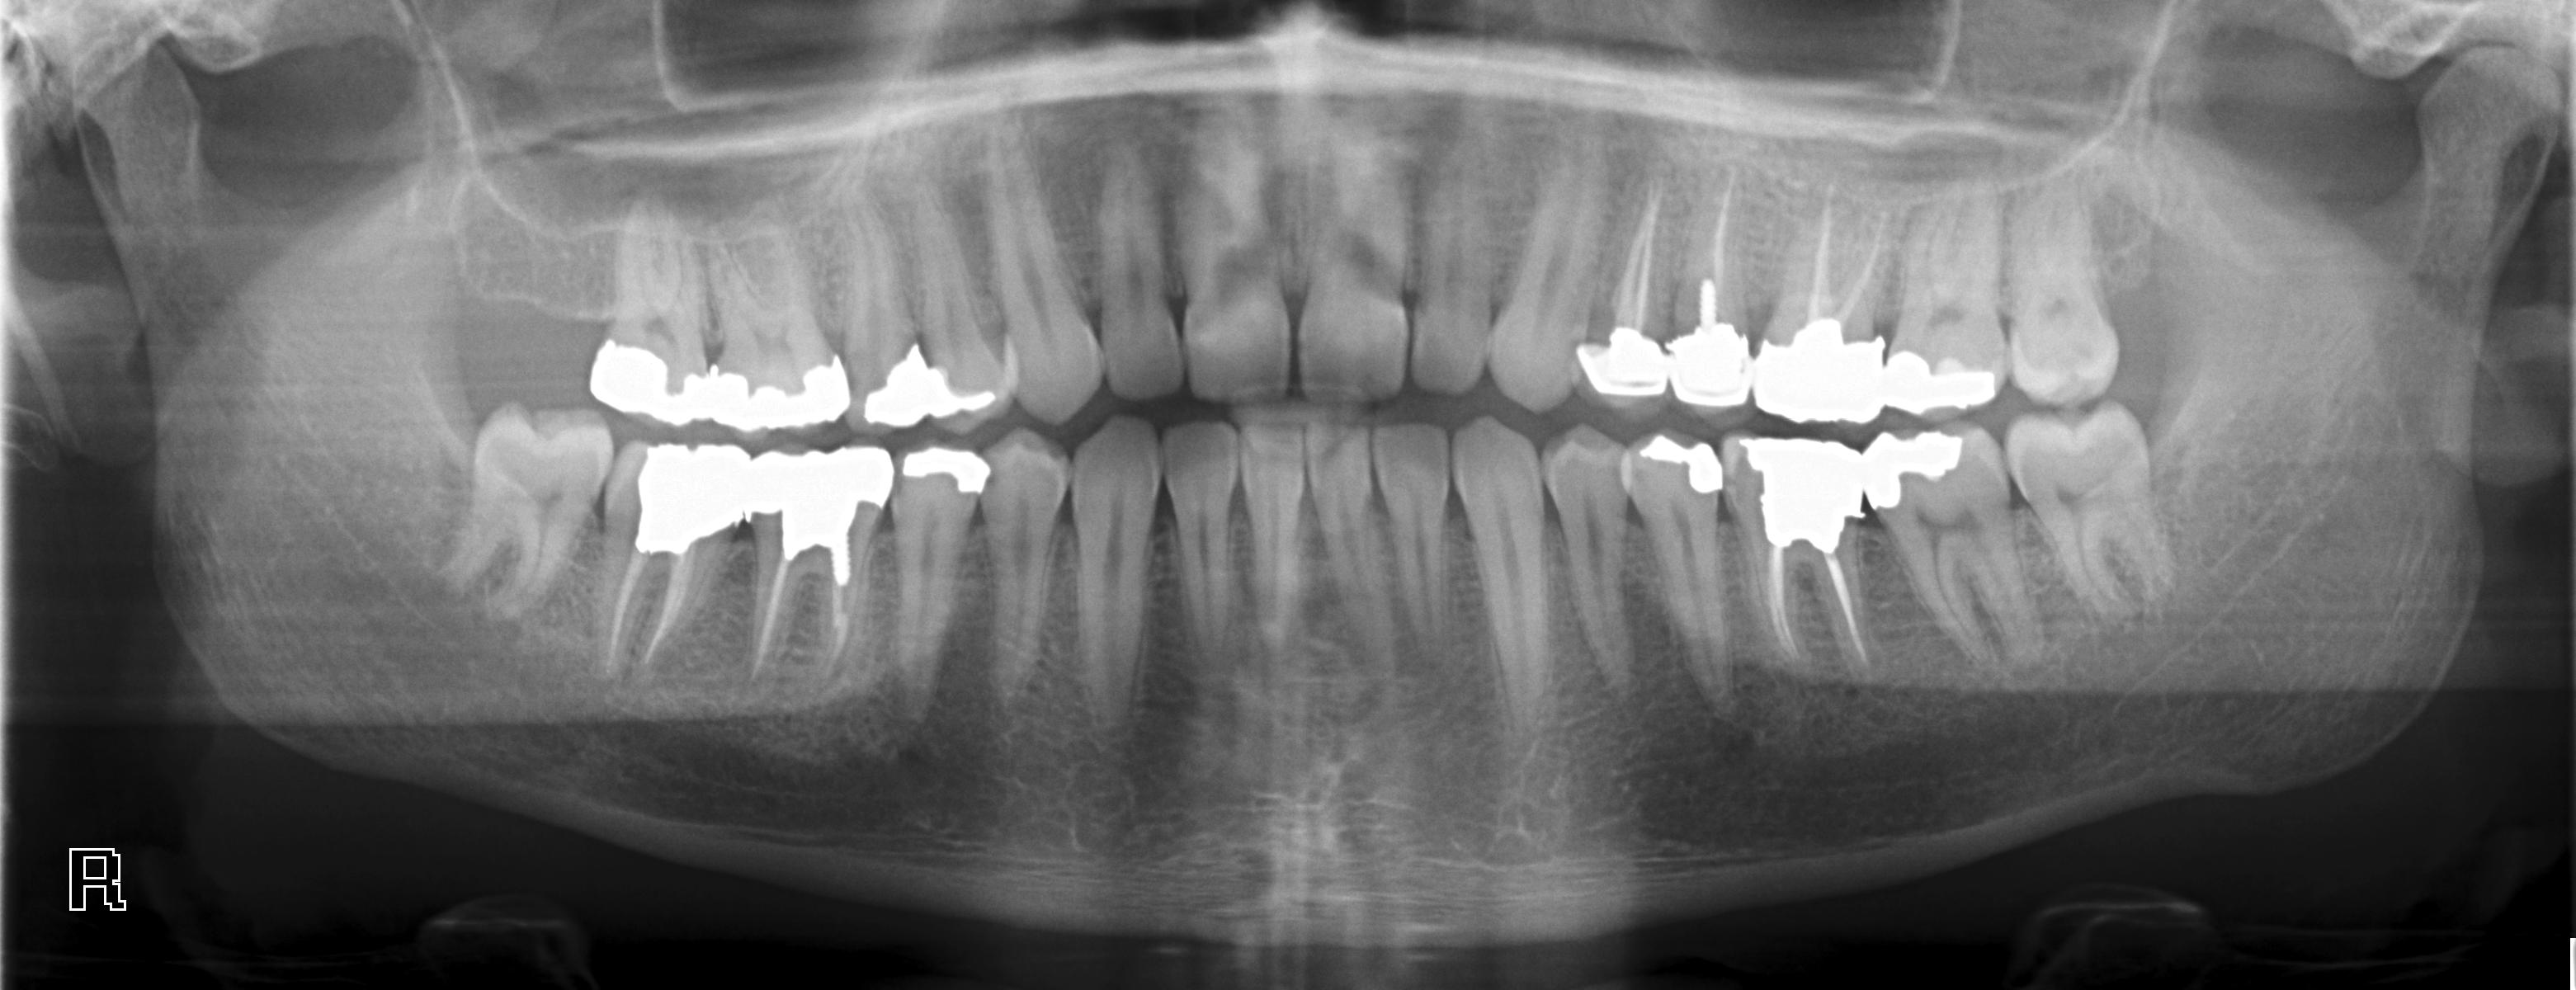Çürük: (1751, 296, 1881, 427), (1738, 427, 1871, 555), (761, 442, 900, 552), (629, 433, 754, 552), (861, 330, 1005, 424), (596, 320, 711, 427), (711, 341, 848, 427), (1884, 333, 2003, 417), (1866, 427, 1971, 516), (1571, 317, 1666, 406), (1641, 420, 1728, 512), (1669, 305, 1745, 406), (902, 433, 997, 509)
